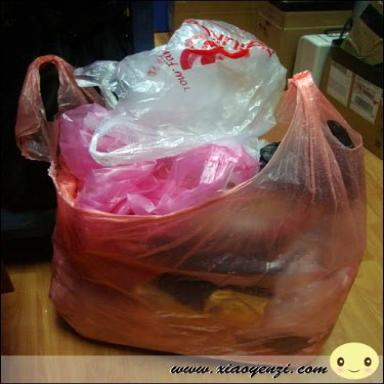plasticbag: (18, 19, 362, 356)
